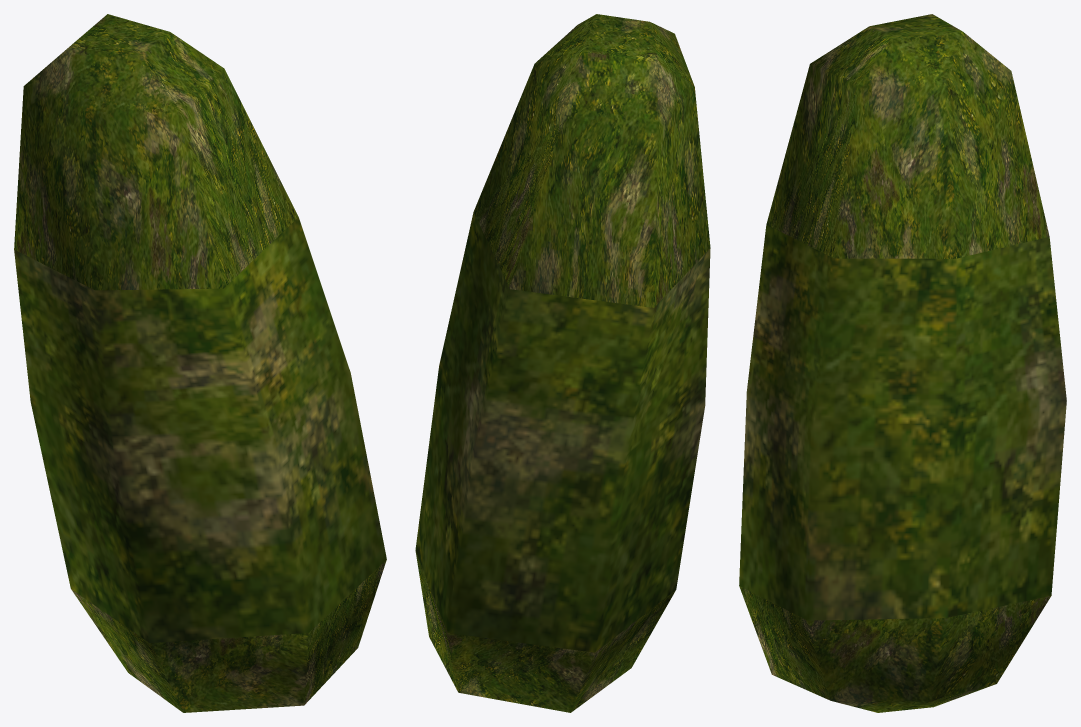
Rendered from OVERHILL_A_01_ROCK_BRIDGE10.fbx.
The picture shows the model from 3 angles, left to right: view 1: azimuth 30°, elevation 25°; view 2: azimuth 150°, elevation 25°; view 3: azimuth 270°, elevation 25°; orthographic projection. The views are drawn at different scales.
Parts seen in each view (by area): view 1: OVERHILL_A_01_ROCK_BRIDGE10; view 2: OVERHILL_A_01_ROCK_BRIDGE10; view 3: OVERHILL_A_01_ROCK_BRIDGE10.
Part boxes in pixels (box(x1,y1,x2,y2)): OVERHILL_A_01_ROCK_BRIDGE10: box(14, 14, 386, 712); OVERHILL_A_01_ROCK_BRIDGE10: box(415, 14, 710, 712); OVERHILL_A_01_ROCK_BRIDGE10: box(739, 14, 1066, 712).
Bounding box in the file's own units: 26999 × 62783 × 29379.
Materials: 1 (1 with a texture image).
